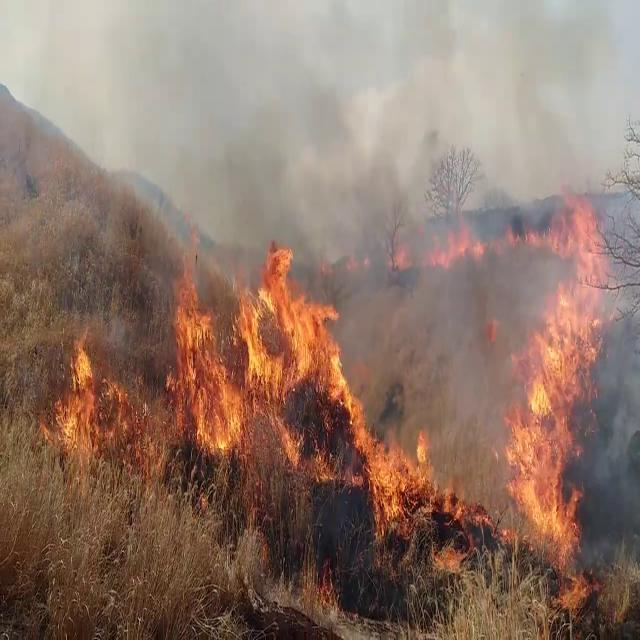Fire: (499, 193, 617, 603), (167, 224, 355, 468), (49, 327, 150, 469), (350, 408, 440, 532), (435, 212, 493, 259)
Smoke: (175, 0, 502, 311)
